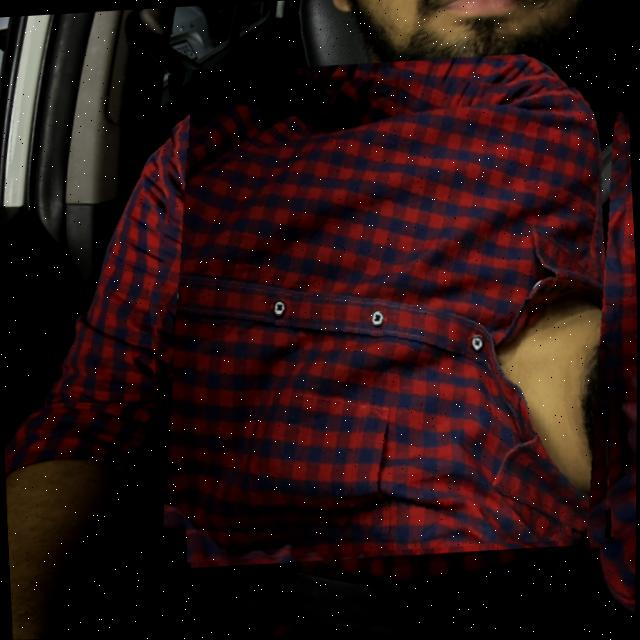no-seatbelt: (136, 53, 640, 563)
